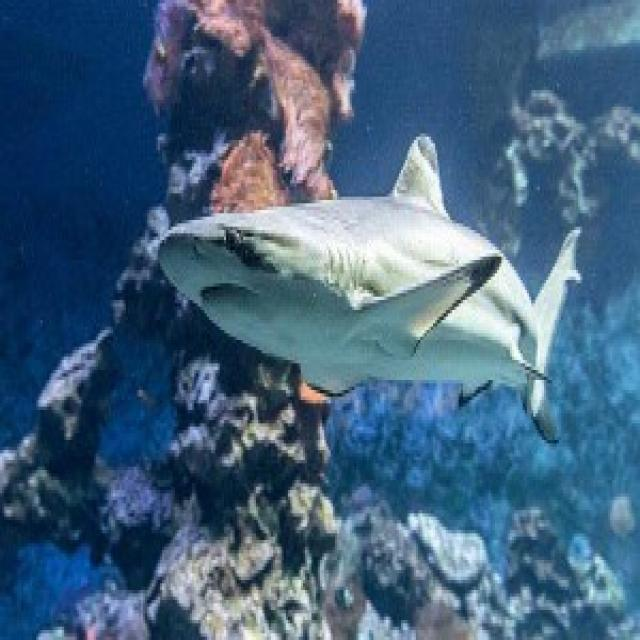Shark: (156, 128, 587, 459)
